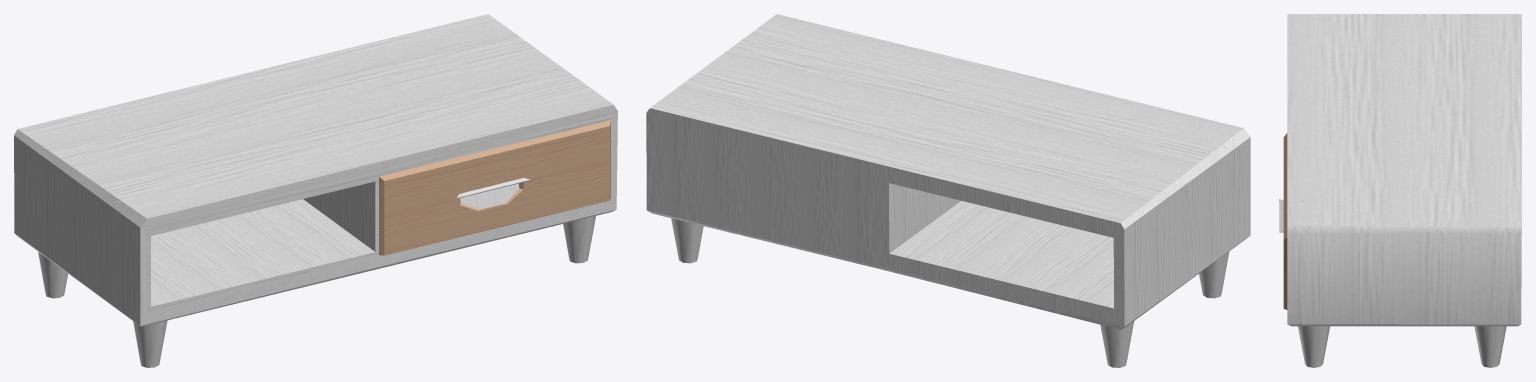
Rendered from Coffee_Table_09.FBX.
The picture shows the model from 3 angles, left to right: view 1: azimuth 30°, elevation 25°; view 2: azimuth 150°, elevation 25°; view 3: azimuth 270°, elevation 25°; orthographic projection. The views are drawn at different scales.
Visible parts, largest first — view 1: Coffee_table; view 2: Coffee_table; view 3: Coffee_table.
Part boxes in pixels (x1,y1,x2,y2): Coffee_table: [14, 14, 617, 367]; Coffee_table: [646, 14, 1250, 367]; Coffee_table: [1279, 14, 1521, 367].
Bounding box in the file's own units: 283 × 90.71 × 134.
